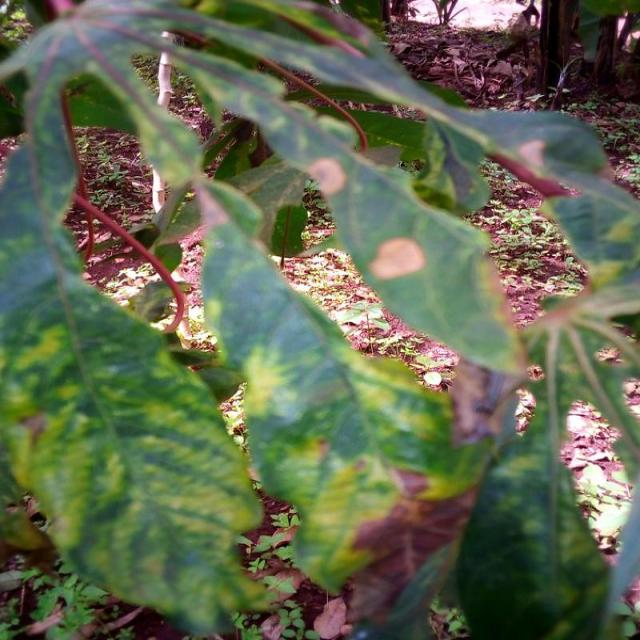cassava leaf: (0, 1, 638, 637), (196, 178, 494, 600)
